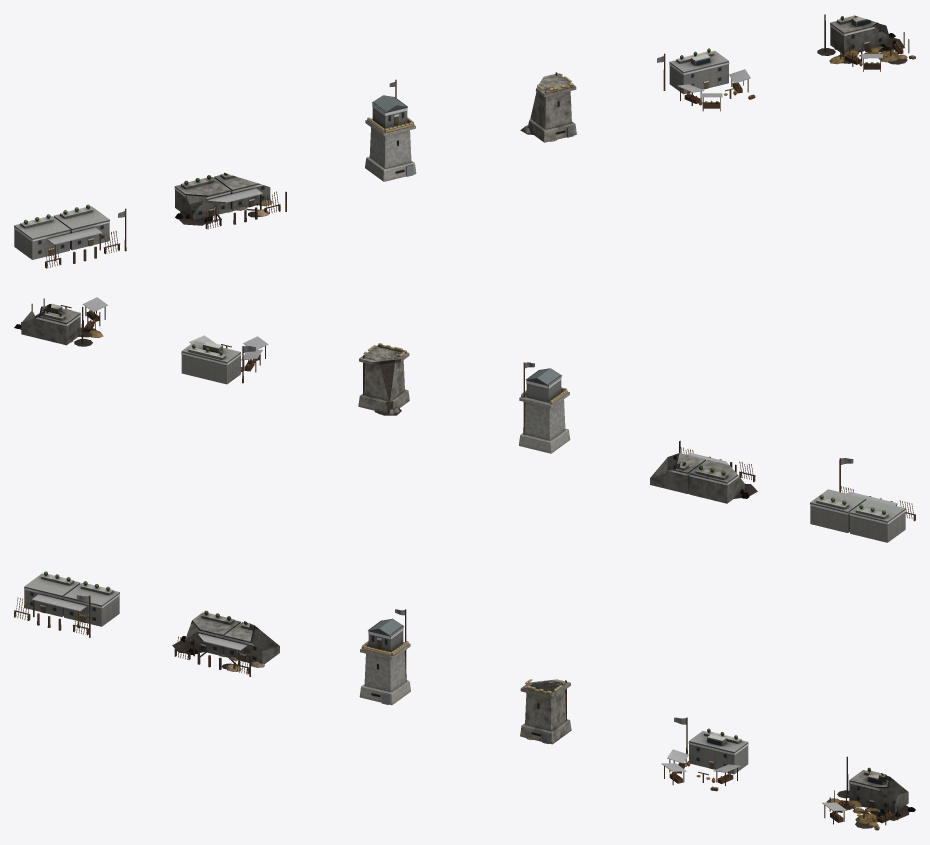
File: rts-modern-monsoon.glb
3 renders of one model, top to bottom at view 1: azimuth 30°, elevation 25°; view 2: azimuth 150°, elevation 25°; view 3: azimuth 330°, elevation 25°, orthographic.
Parts seen in each view (by area): view 1: LOD0, LOD0.001, LOD0.002, LOD0.005, LOD0.004, LOD0.003; view 2: LOD0, LOD0.001, LOD0.002, LOD0.003, LOD0.004, LOD0.005; view 3: LOD0, LOD0.001, LOD0.002, LOD0.005, LOD0.004, LOD0.003.
Part boxes in pixels (x1=…): LOD0: x1=14, y1=204, x2=126, y2=268; LOD0.001: x1=174, y1=172, x2=286, y2=229; LOD0.002: x1=365, y1=79, x2=416, y2=181; LOD0.005: x1=817, y1=14, x2=915, y2=71; LOD0.004: x1=657, y1=48, x2=755, y2=111; LOD0.003: x1=520, y1=72, x2=576, y2=142; LOD0: x1=810, y1=458, x2=915, y2=542; LOD0.001: x1=650, y1=440, x2=757, y2=503; LOD0.002: x1=519, y1=362, x2=570, y2=453; LOD0.003: x1=358, y1=343, x2=409, y2=415; LOD0.004: x1=181, y1=335, x2=268, y2=384; LOD0.005: x1=14, y1=297, x2=107, y2=346; LOD0: x1=14, y1=571, x2=119, y2=637; LOD0.001: x1=172, y1=610, x2=279, y2=676; LOD0.002: x1=359, y1=609, x2=410, y2=705; LOD0.005: x1=822, y1=756, x2=915, y2=830; LOD0.004: x1=661, y1=717, x2=748, y2=791; LOD0.003: x1=520, y1=679, x2=571, y2=744.
Size of what is drawn, in the model's own units: 16.4 by 1.48 by 1.36.
2 materials, 2 textured.
